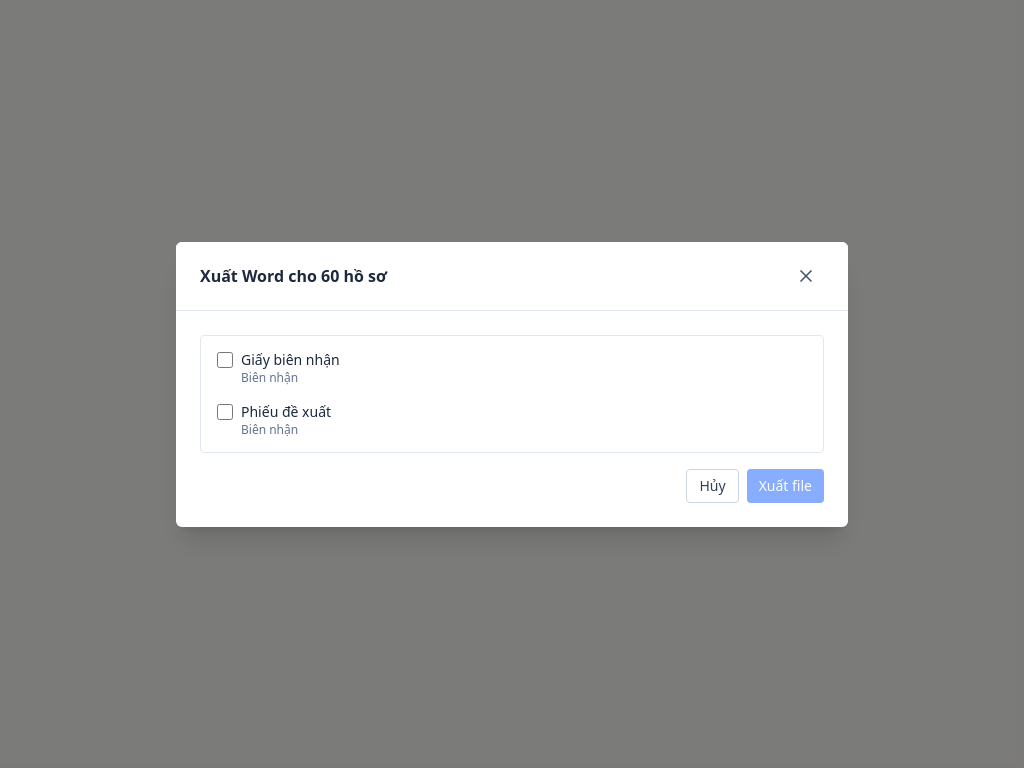
Scenario: BatchExportDocumentsModal › 60 hồ sơ × 1 mẫu = 60 file → vẫn cho xuất (trần tính theo TÍCH, không theo số hồ sơ)
This screenshot has width=1024, height=768.
Click the checkbox with test id "batch-export-checkbox-t1".
click(225, 360)  # box [217,352,233,368]
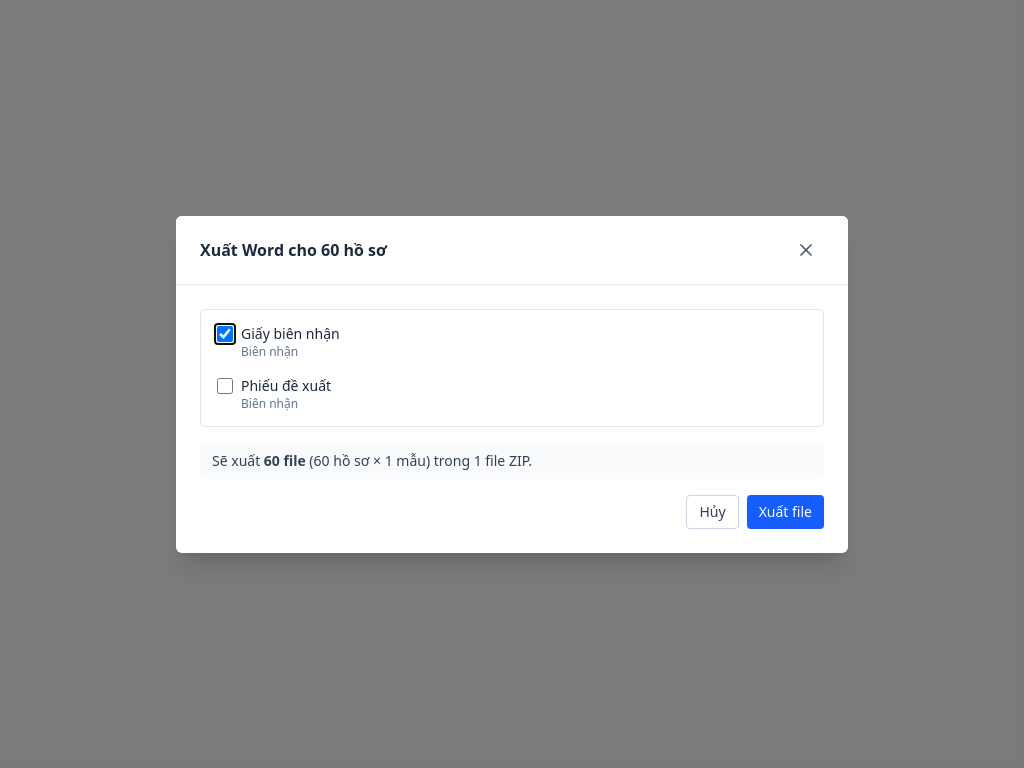
Result: the button with test id "batch-export-confirm" is enabled at [747,494,824,528]
